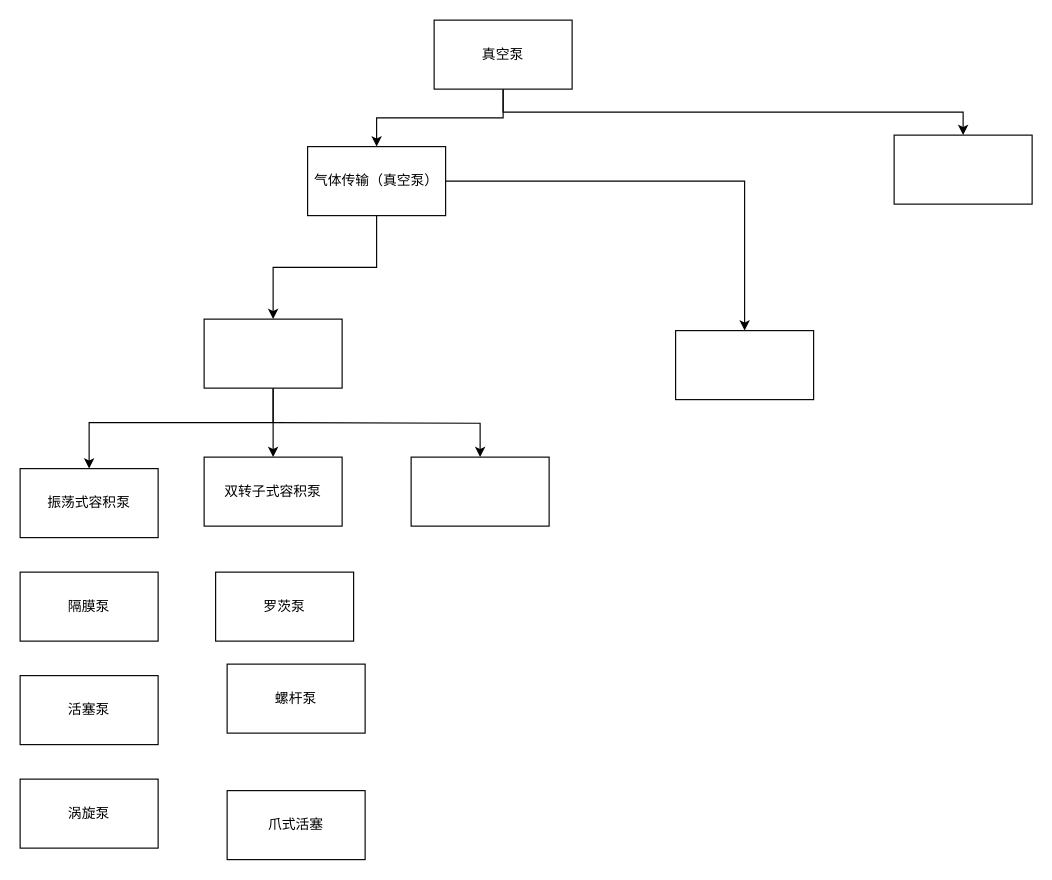
Image size: 1052x880. Some labels were removed from this diagram. The shapes that lost their labels are listed below. From the top down, each one's centre as x and y in pixels, then its label:
At pixel 962 169: "气体粘合（真空泵）".
At pixel 272 353: "往复容积式真空泵".
At pixel 744 364: "动能（真空泵）".
At pixel 479 491: "单转子容积式真空泵".
